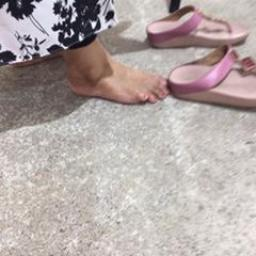Lateral View -Right Foot-: (52, 31, 171, 115)
